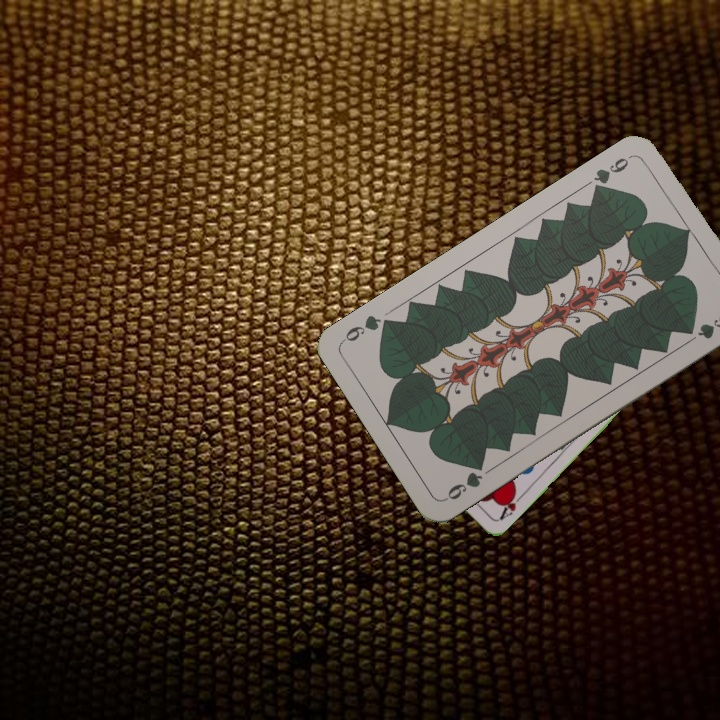G9: (440, 457, 487, 504), (589, 150, 636, 197)
HA: (494, 487, 526, 523)
